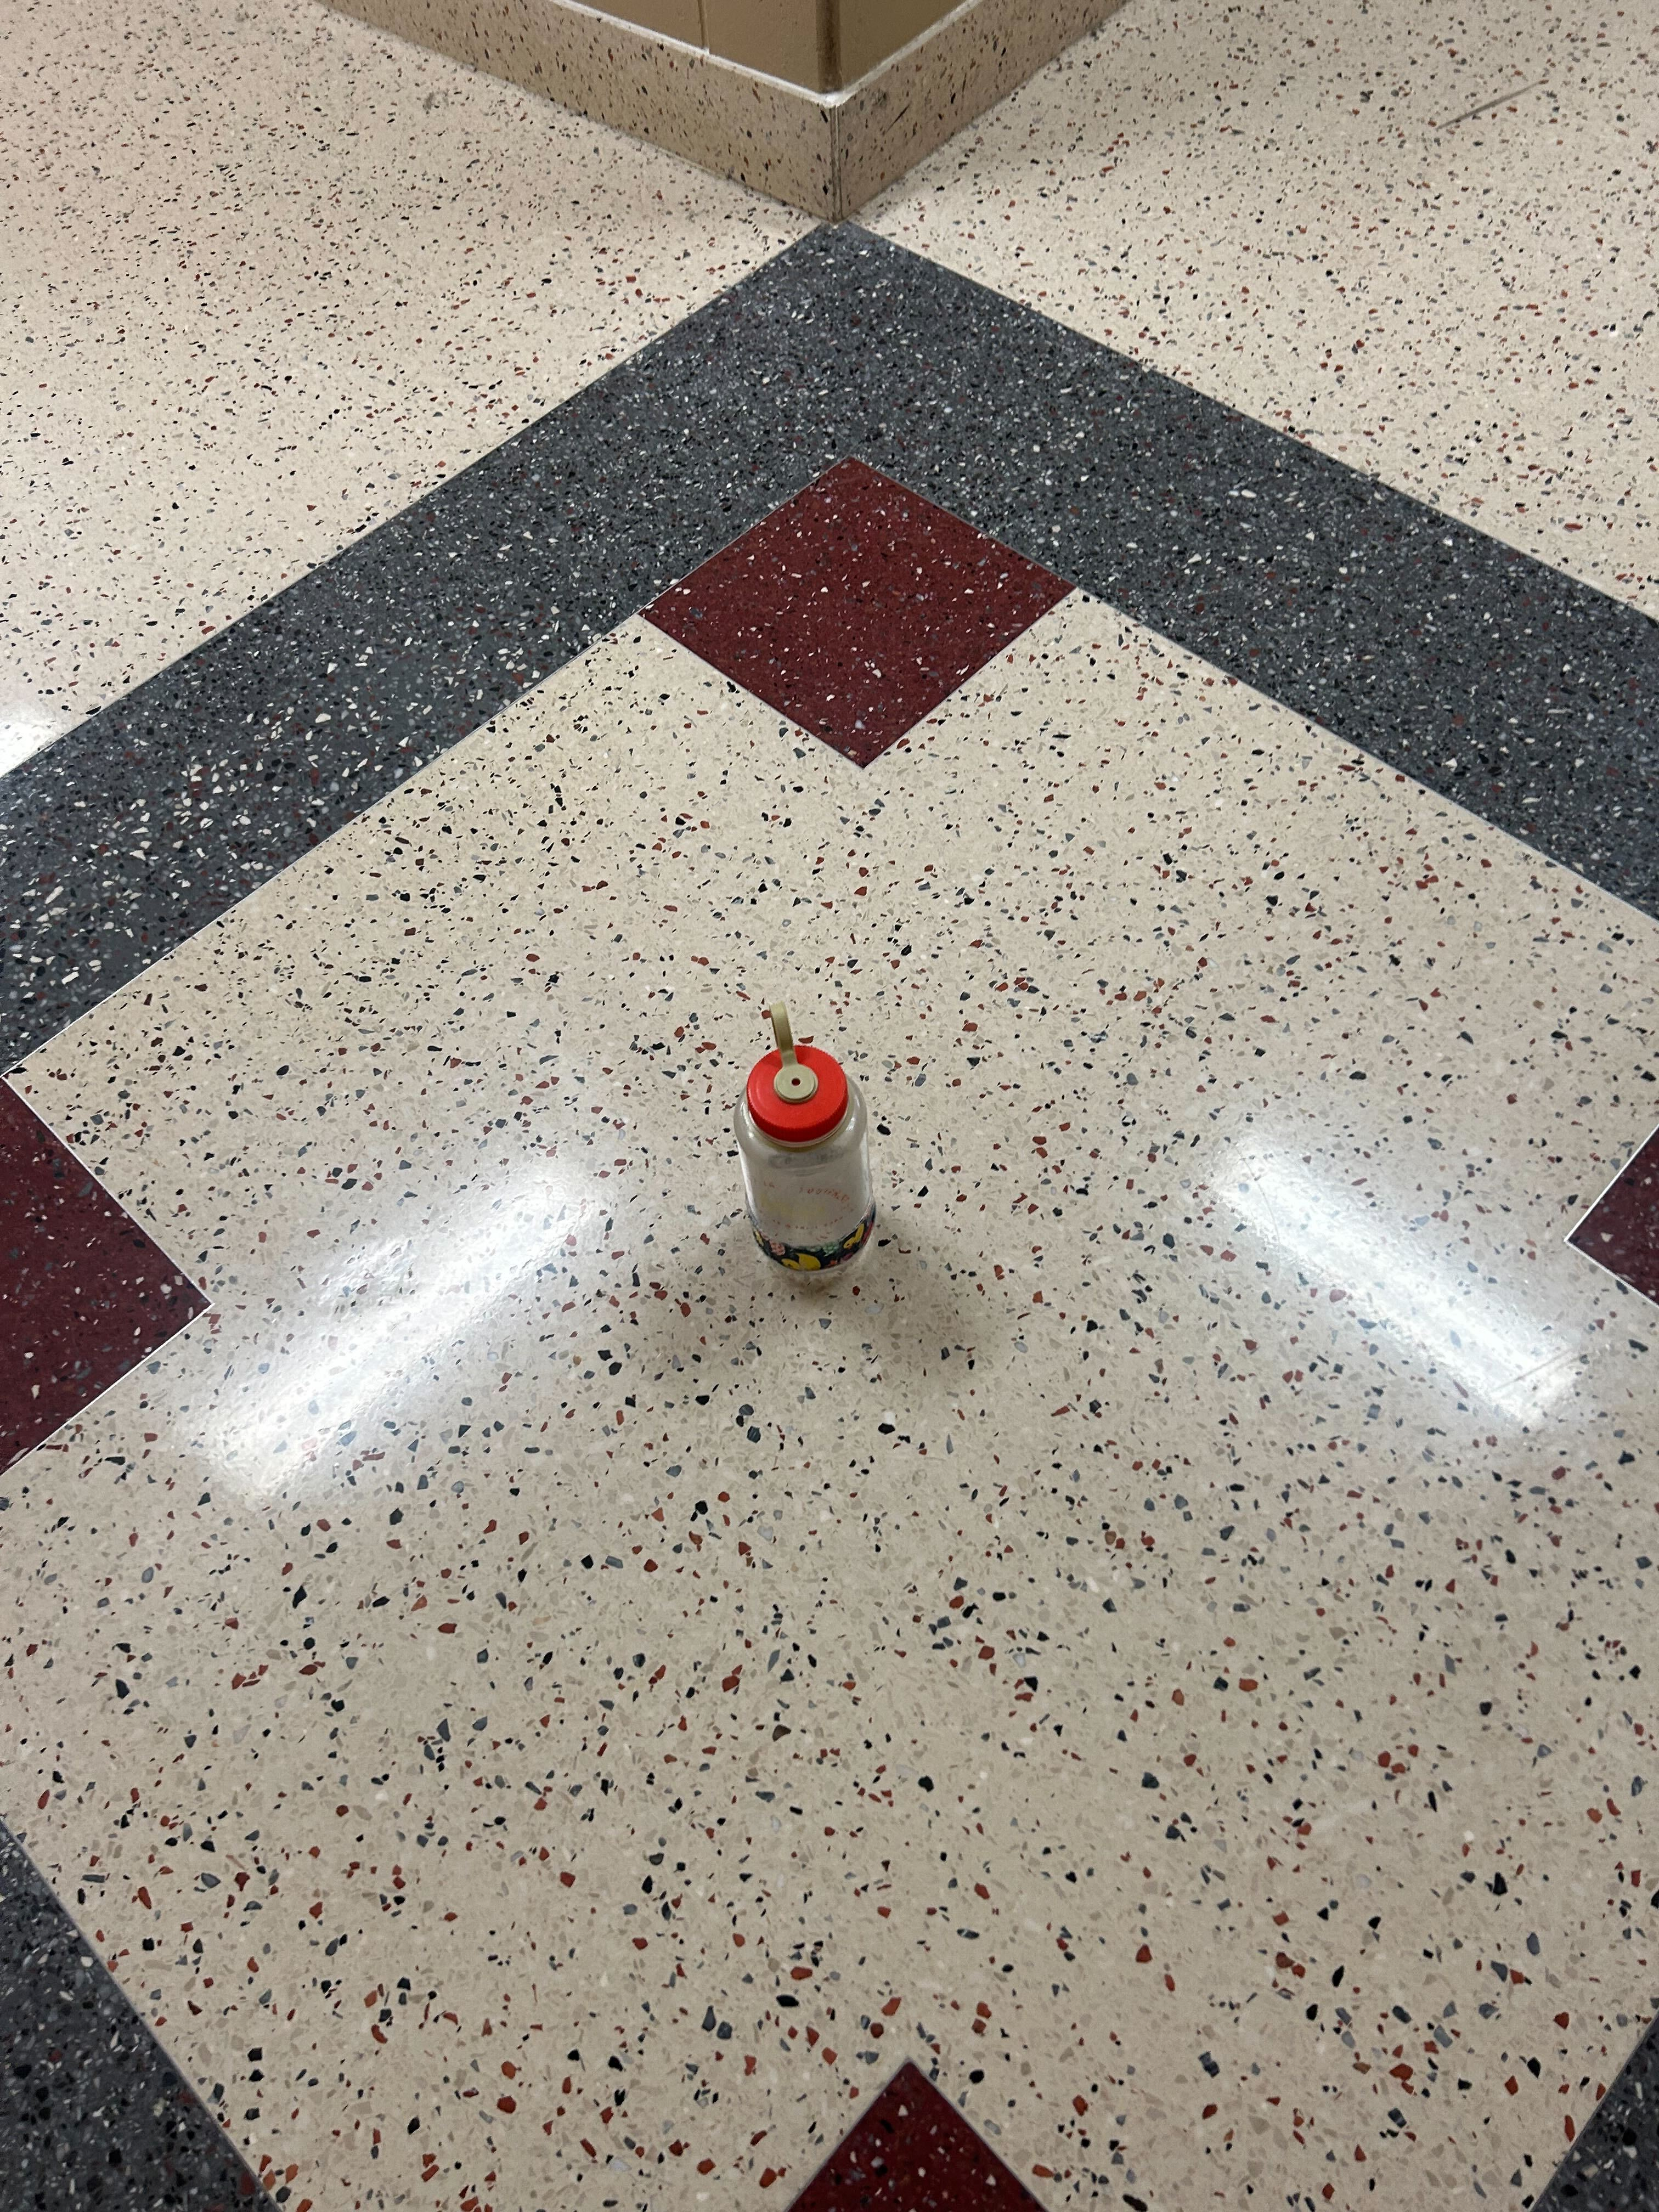bottle: (728, 991, 878, 1294)
